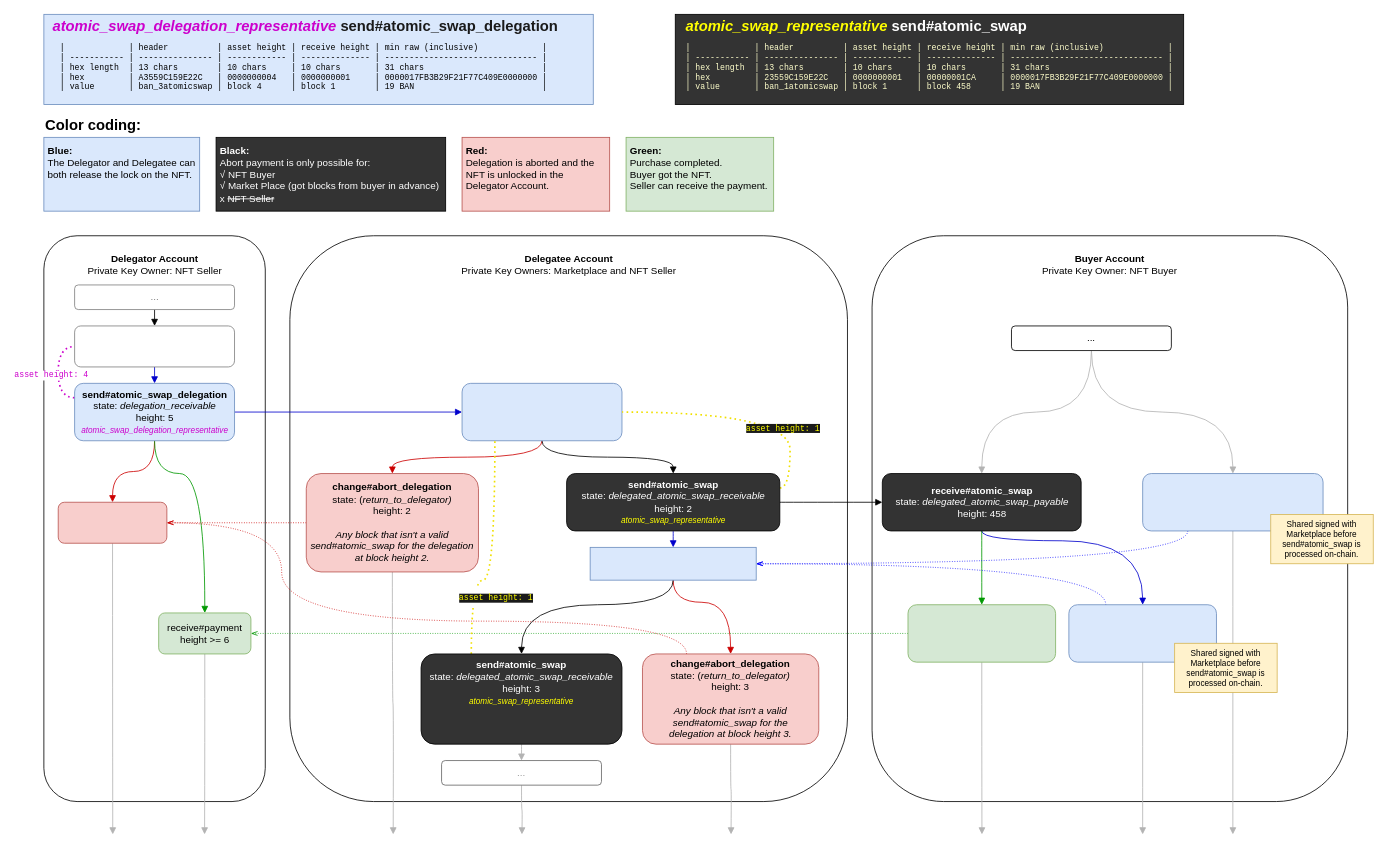
The diagram is 1387 pixels wide and 848 high, and some of its shapes have lost their labels. The centre of each missing label's shape, as x and y in pixels:
... height: 6: [112,522]
change#abort_payment state: ( return_to_delegatee) height: 459: [1142,633]
change#abort_receive_atomic_swap state: ( return_to_delegatee) height: 458: [1232,502]
continue after: ( return_to_delegatee): [672,563]
receive#asset height: 4: [154,346]
receive#atomic_swap_delegation state: delegated height: 1: [541,412]
send#payment state: owned height: 459 raw >= min raw: [981,633]
